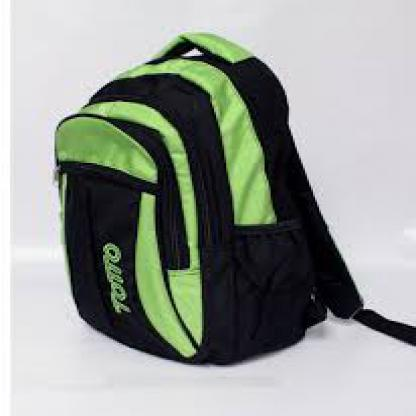morral: (36, 20, 414, 370)
